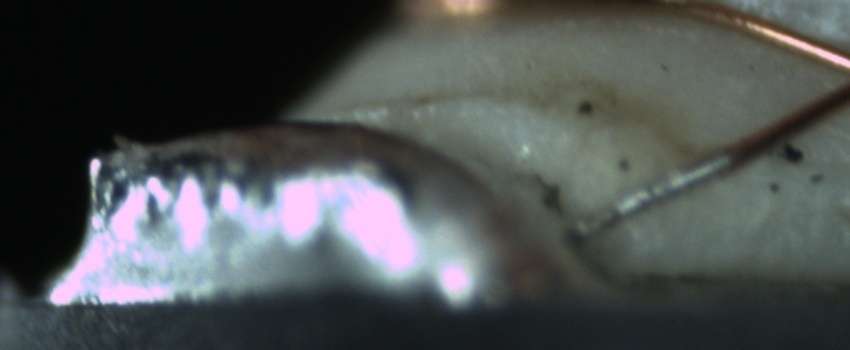TS: (570, 148, 731, 235)
